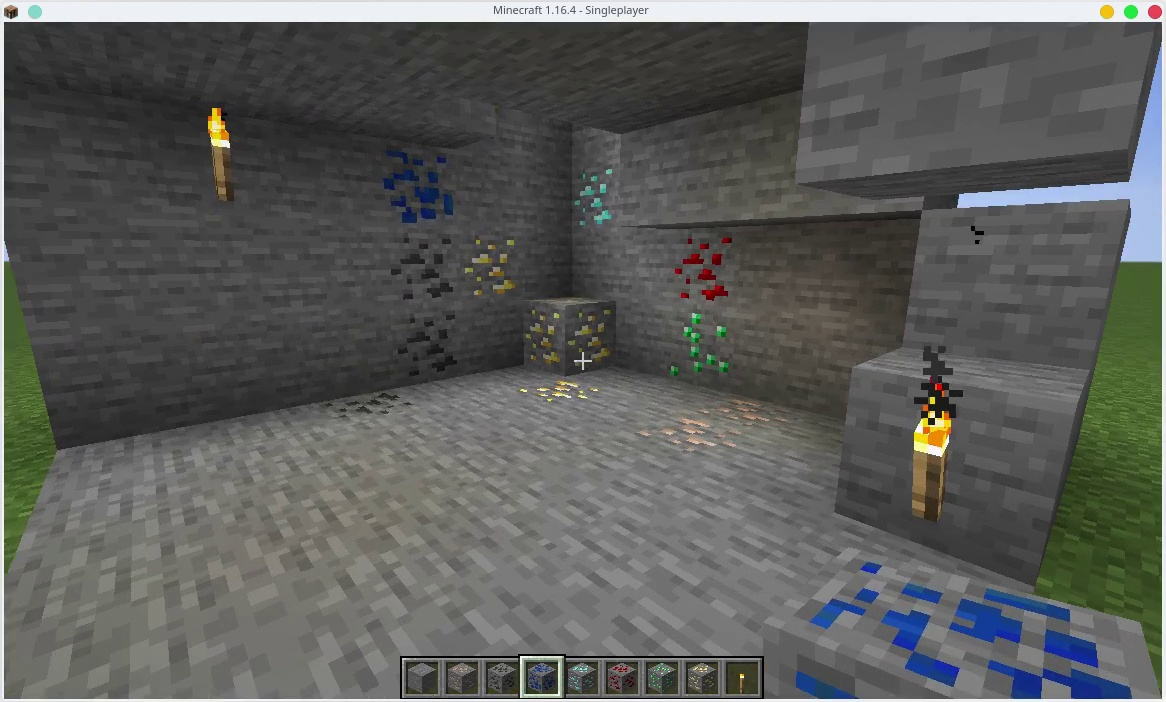gold: (521, 293, 612, 364), (453, 229, 515, 296), (515, 383, 605, 406), (690, 661, 716, 692)
